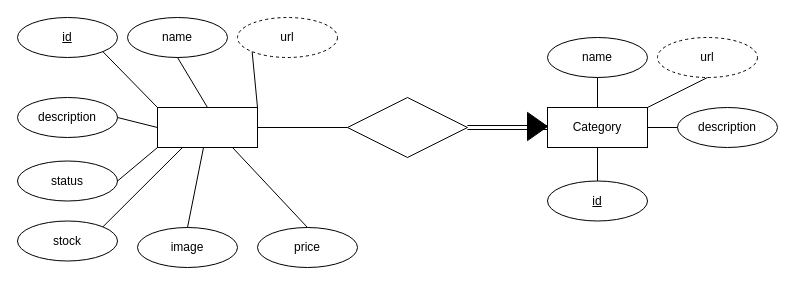
This 795x285 diagram has some shape labels left out. Here are the shapes that lost their labels. From the top down, the centre of each, then its label:
point (207, 127): Item
point (407, 127): has
